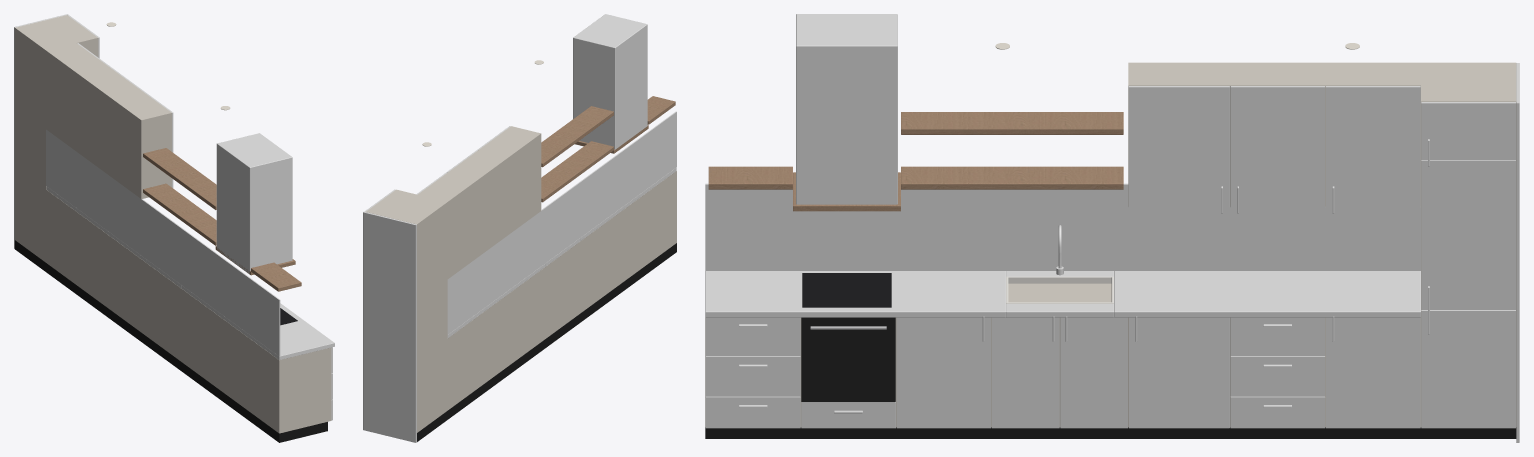
File: kitchen__0_1.glb
3 views of the same model, side by side, from view 1: azimuth 30°, elevation 25°; view 2: azimuth 150°, elevation 25°; view 3: azimuth 270°, elevation 25° (orthographic). The views are drawn at different scales.
Visible parts, largest first — view 1: carcass, splashback, upper carcass, hood, tall carcass, open shelves, plinth, worktop; view 2: carcass, splashback, fridge end panel, upper carcass, hood, tall carcass, open shelves, plinth, worktop; view 3: fronts, splashback, upper fronts, worktop, hood, open shelves, plinth, oven, upper carcass, tall carcass, carcass, hob (+3 smaller).
Part boxes in pixels (box(x1,y1,x2,y2)): carcass: box(46, 189, 331, 433); splashback: box(46, 129, 280, 356); upper carcass: box(46, 43, 171, 199); hood: box(216, 133, 292, 273); tall carcass: box(15, 15, 98, 262); open shelves: box(143, 148, 301, 291); plinth: box(15, 240, 327, 442); worktop: box(46, 186, 334, 359); carcass: box(447, 171, 676, 410); splashback: box(447, 111, 676, 334); fridge end panel: box(363, 211, 416, 442); upper carcass: box(418, 126, 541, 278); hood: box(573, 14, 647, 149); tall carcass: box(366, 189, 447, 432); open shelves: box(541, 96, 675, 202); plinth: box(417, 243, 676, 441); worktop: box(447, 167, 676, 337); fronts: box(705, 102, 1515, 428); splashback: box(705, 183, 1420, 270); upper fronts: box(1128, 86, 1420, 207); worktop: box(705, 271, 1420, 317); hood: box(796, 14, 897, 204); open shelves: box(708, 112, 1123, 189); plinth: box(705, 427, 1516, 438); oven: box(801, 317, 895, 402); upper carcass: box(1128, 62, 1420, 206); tall carcass: box(1421, 62, 1516, 426); carcass: box(705, 283, 1420, 427); hob: box(802, 273, 891, 307).
Bounding box in the file's own units: 0.63 × 2.7 × 5.12.
Materials: 15 (1 with a texture image).
